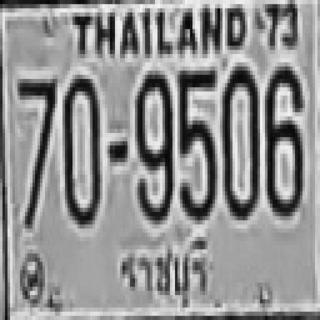N00: (220, 62, 258, 216), (61, 73, 99, 222)
N05: (176, 67, 216, 220)
N06: (264, 62, 301, 212)
N07: (16, 75, 56, 224)
N09: (135, 69, 172, 218)
P52: (114, 232, 215, 313)
